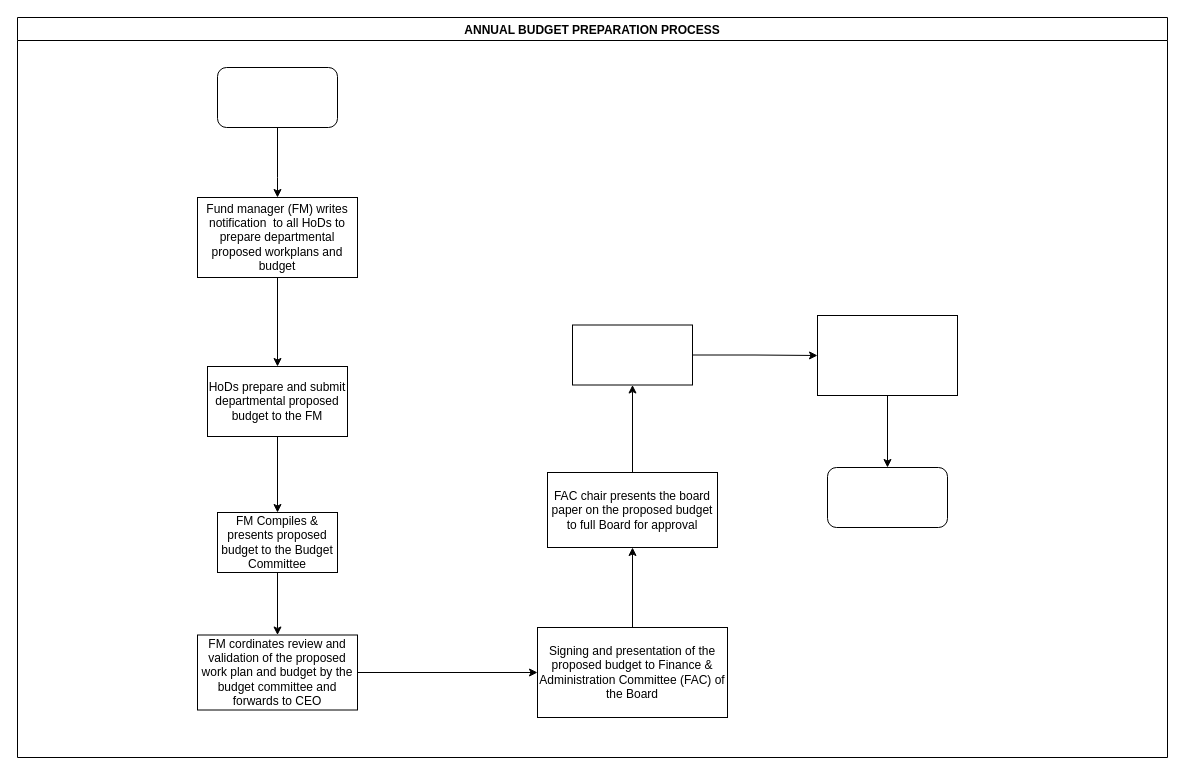
This 1185x775 diagram has some shape labels left out. Each missing label, with the box of its shape:
CEO coordinates signing of approved budget by the CEO and Board chair: (572, 324, 692, 385)
CEO forwards approved budget to line Ministry,National treasury & COB: (816, 314, 958, 396)
End: (826, 466, 948, 528)
Start: (216, 66, 338, 128)
